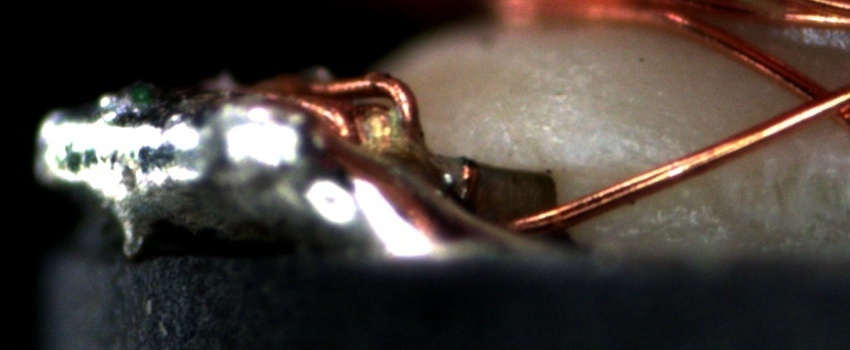CL: (774, 67, 850, 130)
TE: (251, 60, 480, 193)
